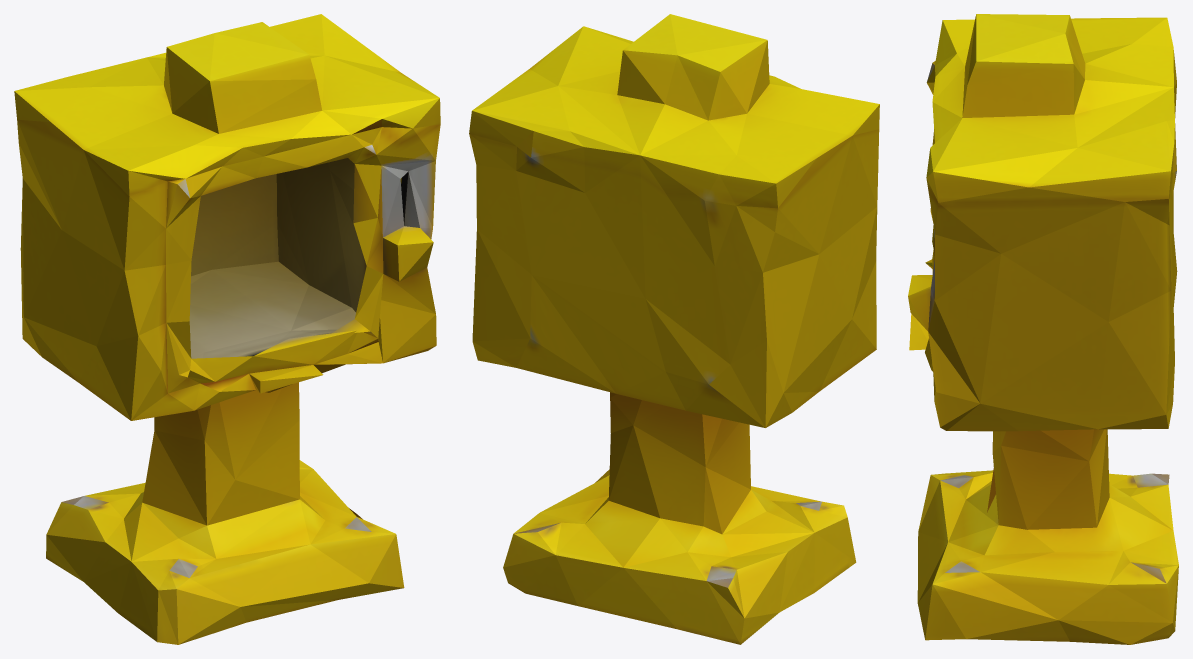
Rendered from newspaper_box.glb.
The picture shows the model from 3 angles, left to right: view 1: azimuth 30°, elevation 25°; view 2: azimuth 150°, elevation 25°; view 3: azimuth 270°, elevation 25°; orthographic projection. The views are drawn at different scales.
Visible parts, largest first — view 1: geometry_0; view 2: geometry_0; view 3: geometry_0.
Boxes of the visible parts, x1,y1,x2,y2 form: geometry_0: (14,14,440,644); geometry_0: (469,14,879,644); geometry_0: (908,14,1178,644).
Size of the model in its own units: 0.6358 by 1.01 by 0.4509.
1 material, 1 textured.
